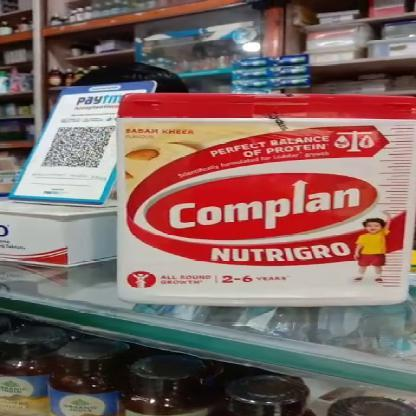Complan Nutrigro Badam Kheer: (118, 92, 415, 299)
